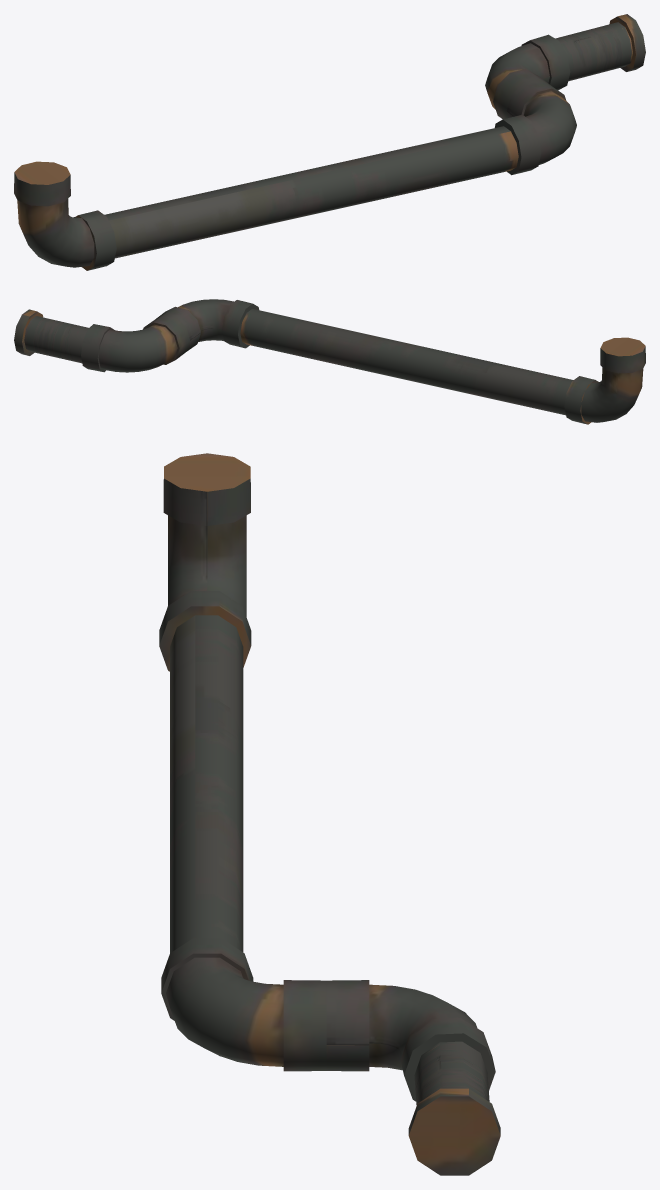
3 renders of one model, top to bottom at view 1: azimuth 30°, elevation 25°; view 2: azimuth 150°, elevation 25°; view 3: azimuth 270°, elevation 25°, orthographic. The views are drawn at different scales.
Parts seen in each view (by area): view 1: body0_model0_lod0_mesh0; view 2: body0_model0_lod0_mesh0; view 3: body0_model0_lod0_mesh0.
Boxes of the visible parts, x1=… form: body0_model0_lod0_mesh0: x1=14, y1=14, x2=645, y2=270; body0_model0_lod0_mesh0: x1=14, y1=299, x2=645, y2=424; body0_model0_lod0_mesh0: x1=159, y1=453, x2=500, y2=1175.
Bounding box in the file's own units: 139 × 21.6 × 37.08.
Materials: 1 (1 with a texture image).
